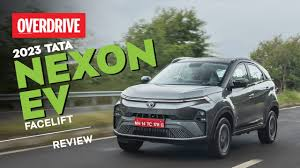Tata Nexon: (111, 55, 280, 158)
